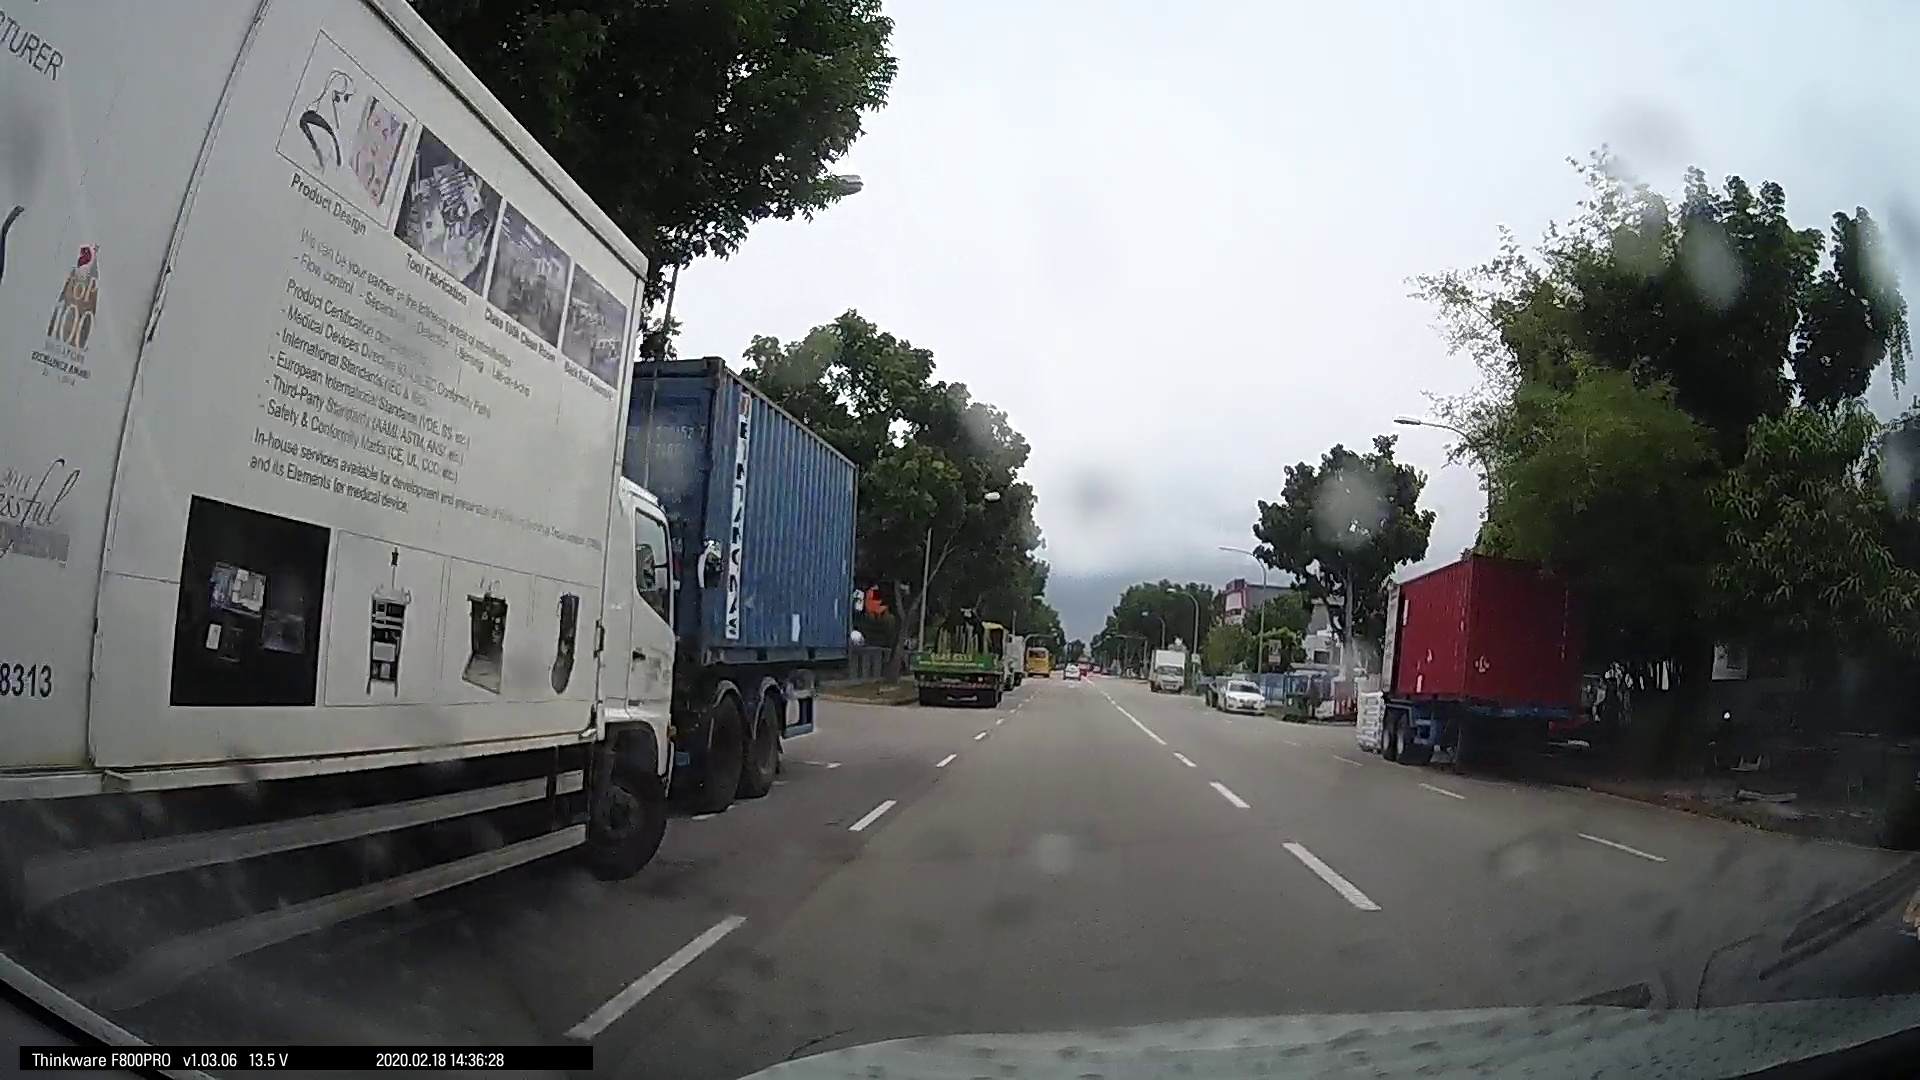Heavy Vehicle: (16, 1, 729, 1011), (603, 334, 862, 795), (1366, 549, 1596, 771)
Light Vehicle: (1207, 669, 1263, 715), (1145, 647, 1187, 692)
